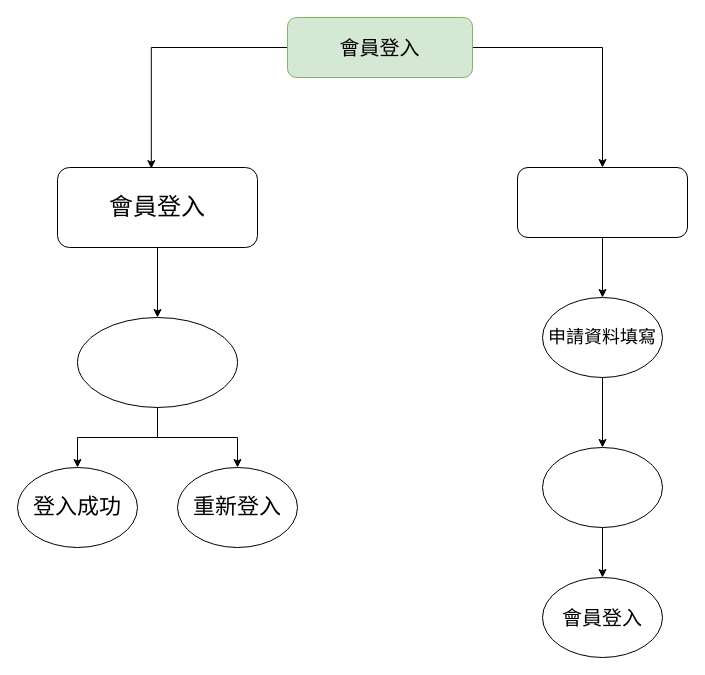
The diagram is 705 pixels wide and 675 high, and some of its shapes have lost their labels. The shapes that lost their labels are listed below. From the top down, each one's box as (x1, y1, x2, y2) in pixels, then its label:
(516, 166, 688, 238): 申請註冊
(76, 316, 238, 408): 資料填寫 帳號/密碼/驗證碼
(542, 446, 662, 528): 確認信件 開通帳號
